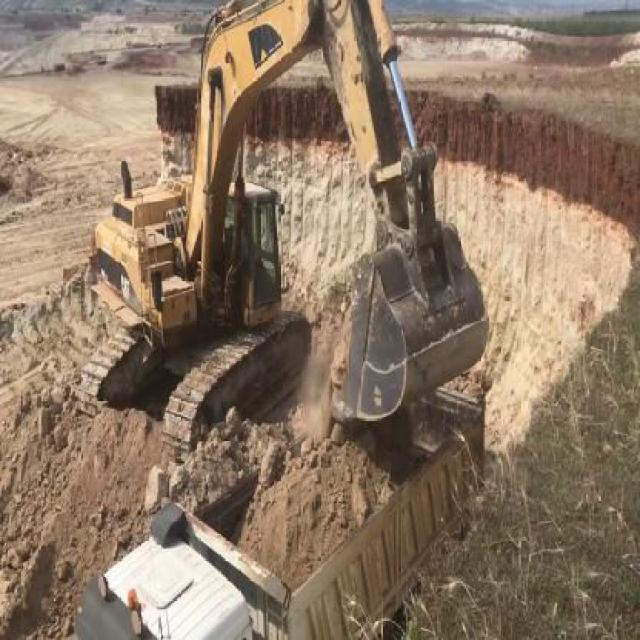Dump Truck: (75, 387, 487, 639)
Excavator: (69, 0, 489, 455)
